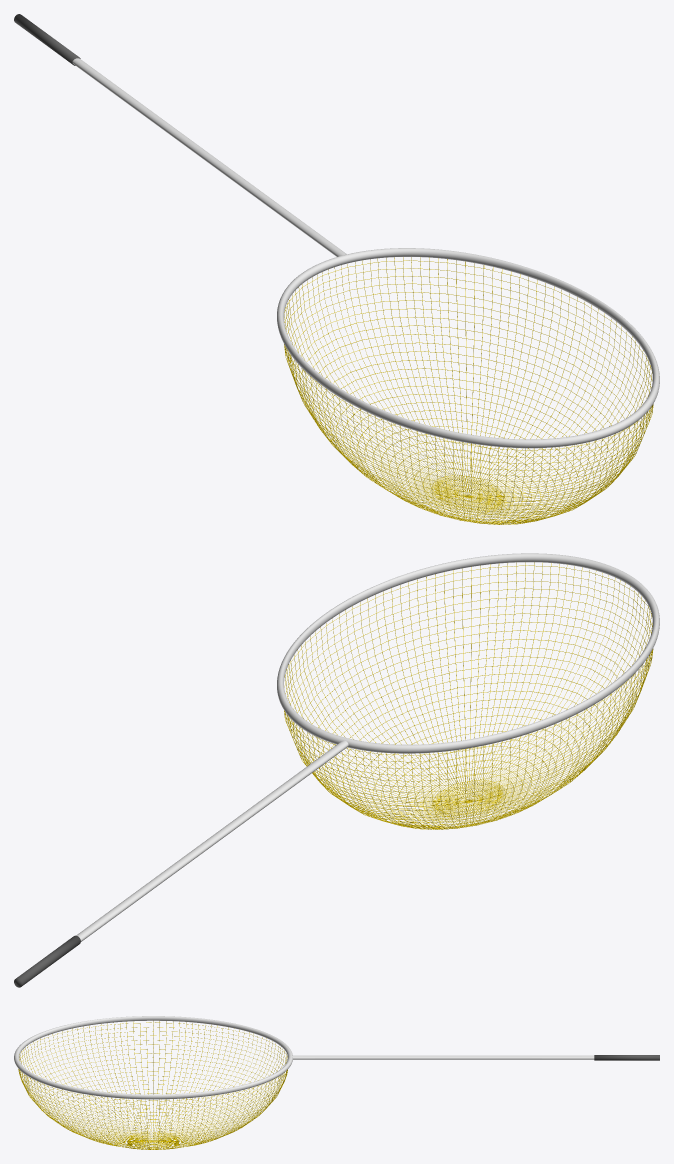
The model's file is net.fbx.
3 renders of one model, top to bottom at view 1: azimuth 30°, elevation 25°; view 2: azimuth 150°, elevation 25°; view 3: azimuth 270°, elevation 25°, orthographic. The views are drawn at different scales.
Visible parts, largest first — view 1: Sphere, Circle, Vert; view 2: Sphere, Circle, Vert; view 3: Sphere, Circle, Vert.
Boxes of the visible parts, <box> form: Sphere: <box>284,257,653,524</box>; Circle: <box>14,14,659,448</box>; Vert: <box>72,58,346,256</box>; Sphere: <box>284,562,653,829</box>; Circle: <box>14,553,659,987</box>; Vert: <box>76,740,348,941</box>; Sphere: <box>18,1021,287,1149</box>; Circle: <box>14,1016,659,1099</box>; Vert: <box>292,1055,594,1059</box>.
Bounding box in the file's own units: 145 × 72.56 × 493.
